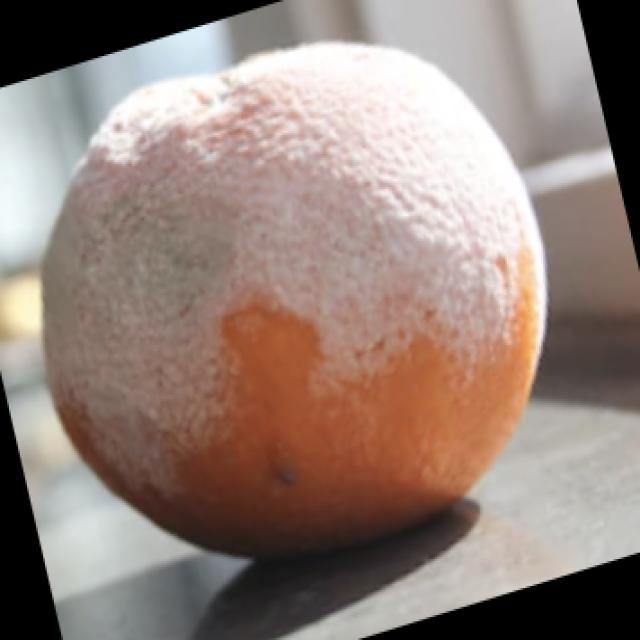sangat-busuk: (45, 43, 545, 556)
